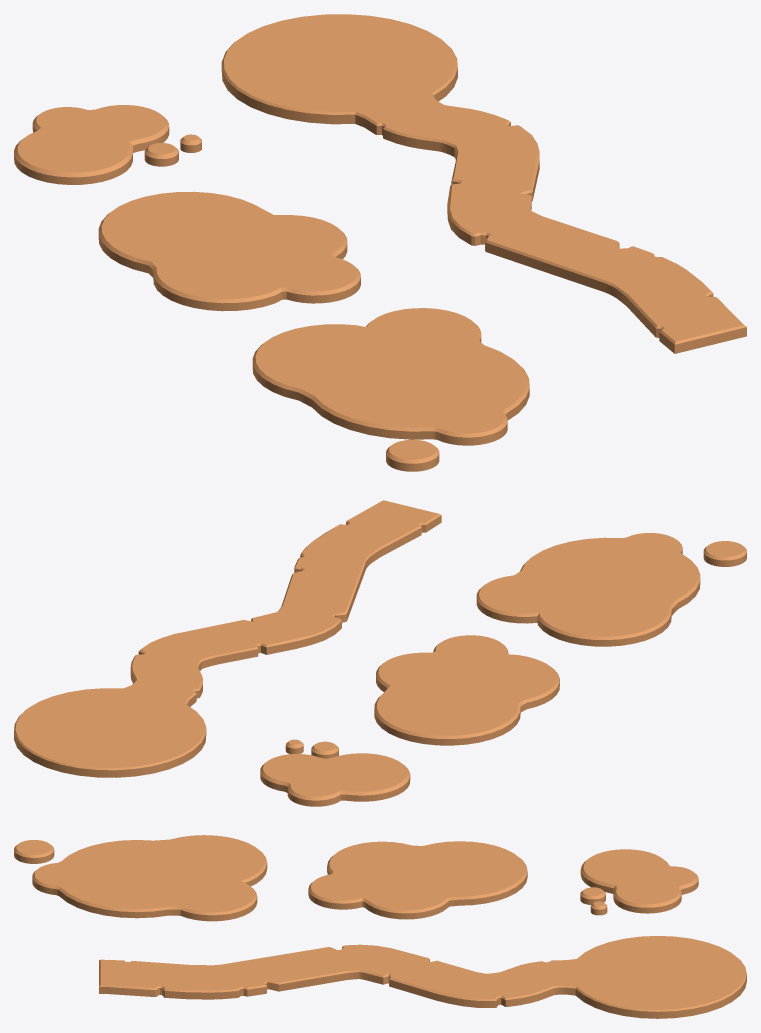
Rendered from mud.fbx.
3 views of the same model, one above another, from view 1: azimuth 30°, elevation 25°; view 2: azimuth 150°, elevation 25°; view 3: azimuth 270°, elevation 25° (orthographic). The views are drawn at different scales.
Visible parts, largest first — view 1: road, mud_2, mud_1, Circle.001; view 2: road, mud_2, mud_1, Circle.001; view 3: road, mud_2, mud_1, Circle.001.
Part boxes in pixels (left/top/right/bottom): road: left=221, top=14, right=746, bottom=353; mud_2: left=252, top=308, right=529, bottom=471; mud_1: left=98, top=191, right=360, bottom=311; Circle.001: left=14, top=105, right=201, bottom=184; road: left=14, top=500, right=441, bottom=777; mud_2: left=476, top=533, right=746, bottom=646; mud_1: left=374, top=635, right=559, bottom=745; Circle.001: left=260, top=739, right=410, bottom=806; road: left=99, top=936, right=746, bottom=1018; mud_2: left=14, top=835, right=267, bottom=921; mud_1: left=308, top=841, right=527, bottom=919; Circle.001: left=580, top=849, right=698, bottom=915.
Size of the model in its own units: 930 by 22.31 by 1634.
